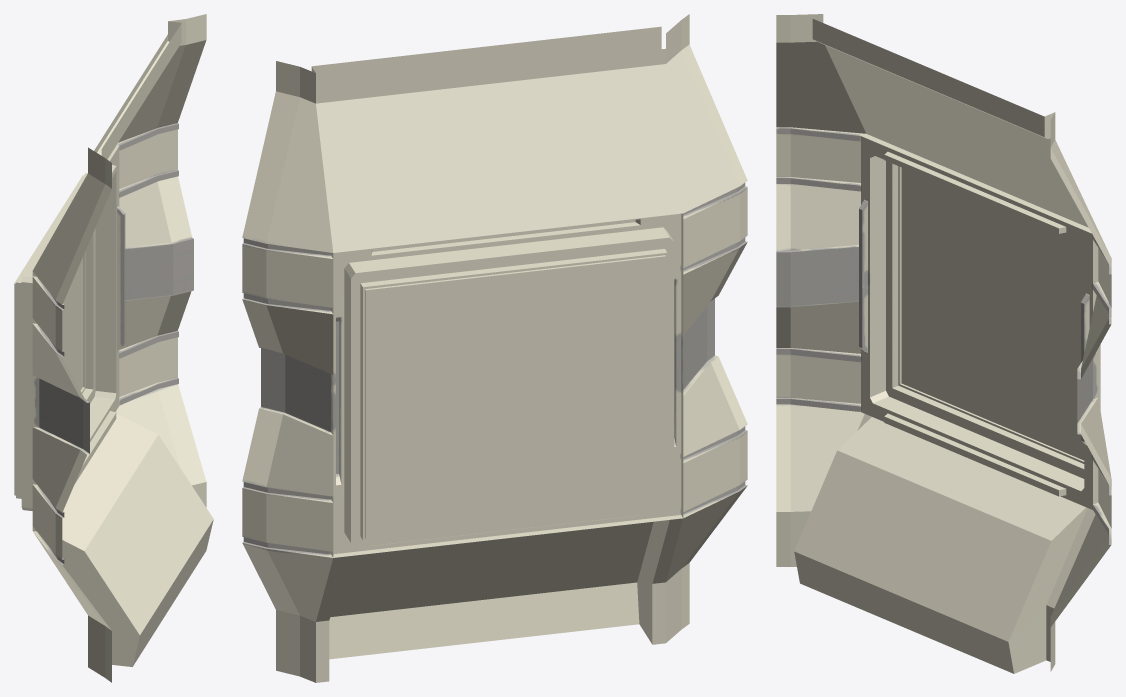
File: Wall_straight_diagonal.fbx
3 renders of one model, left to right at view 1: azimuth 30°, elevation 25°; view 2: azimuth 150°, elevation 25°; view 3: azimuth 270°, elevation 25°, orthographic. The views are drawn at different scales.
Visible parts, largest first — view 1: node_id9 (×3); view 2: node_id9 (×3); view 3: node_id9 (×3).
Boxes of the visible parts, left/top/right/bottom form: node_id9 (×3): left=14, top=14, right=213, bottom=682; node_id9 (×3): left=242, top=14, right=747, bottom=682; node_id9 (×3): left=776, top=14, right=1111, bottom=673.
Bounding box in the file's own units: 0.2816 × 0.512 × 0.2816.
4 materials, 4 textured.
